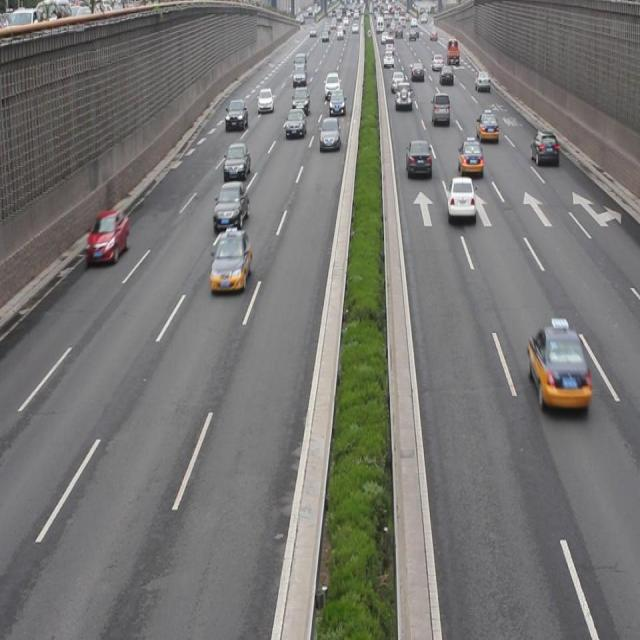car: (527, 318, 588, 414), (210, 231, 251, 292), (88, 212, 128, 260), (211, 182, 247, 228), (447, 176, 475, 222), (529, 128, 556, 168), (222, 144, 250, 180), (457, 138, 482, 178), (404, 139, 430, 174), (475, 109, 498, 145), (318, 118, 340, 150), (284, 108, 306, 140), (226, 98, 247, 130)
